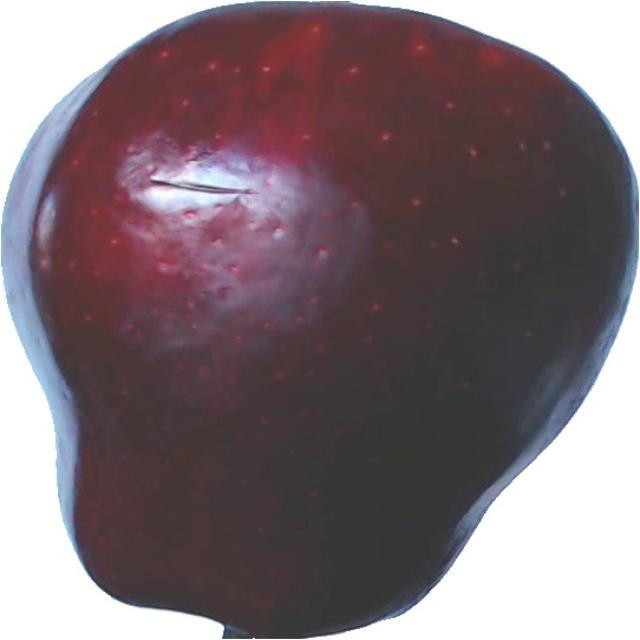Scartlet Spur Elma: (0, 0, 638, 639)
